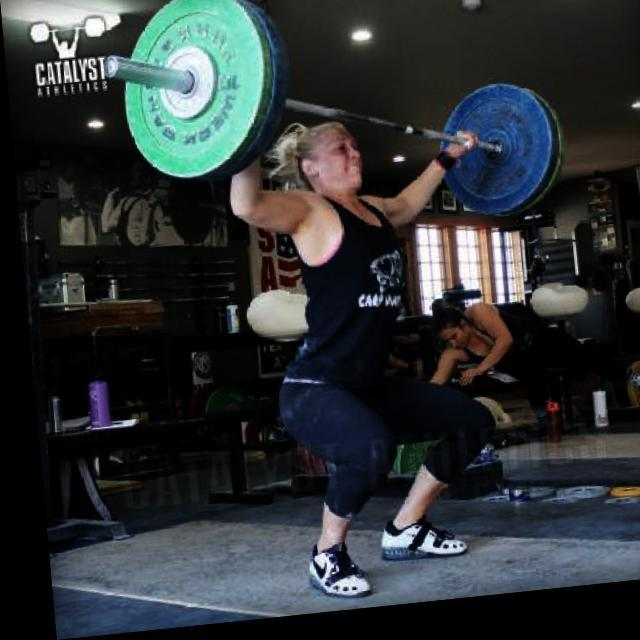barbell: (95, 1, 275, 197)
